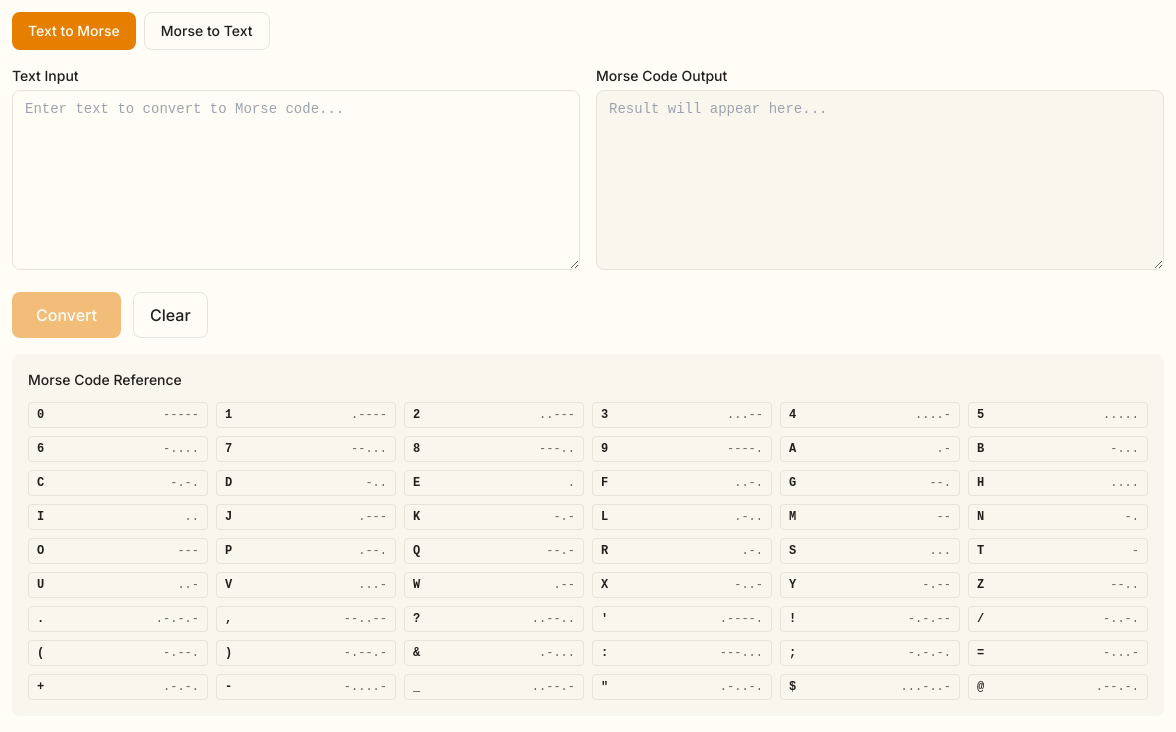
Scenario: MorseCode › converts morse code to text
Click the button "Morse to Text" at (207, 31), box x1=144 y1=12 x2=270 y2=50
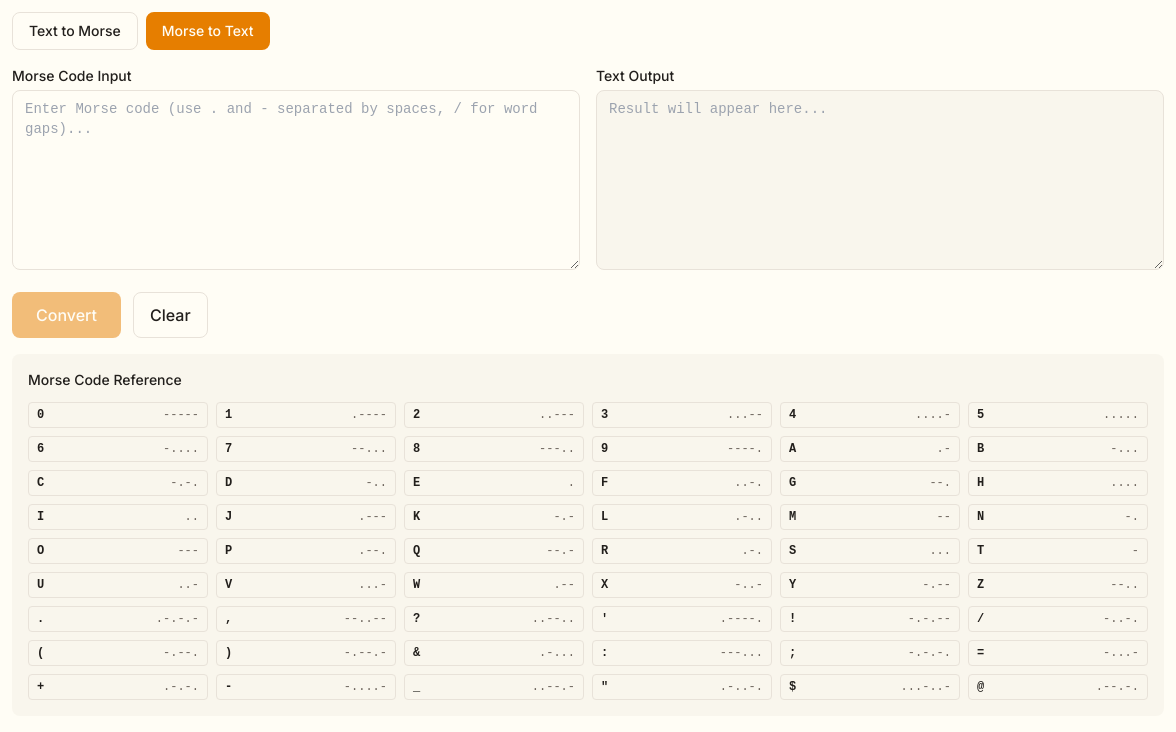
Replace the text in the text box named "Morse code input" with "... --- ..." at (296, 180), box x1=12 y1=90 x2=580 y2=270
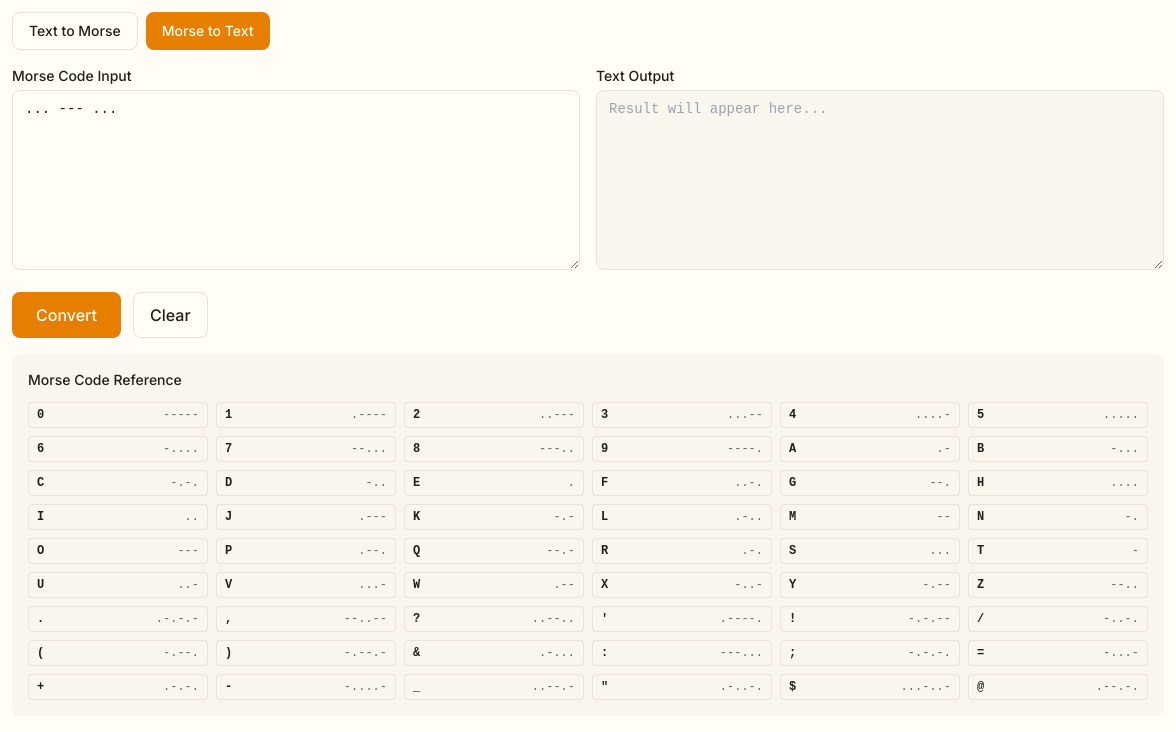
Click the button "Convert" at (66, 315), box x1=12 y1=292 x2=121 y2=338
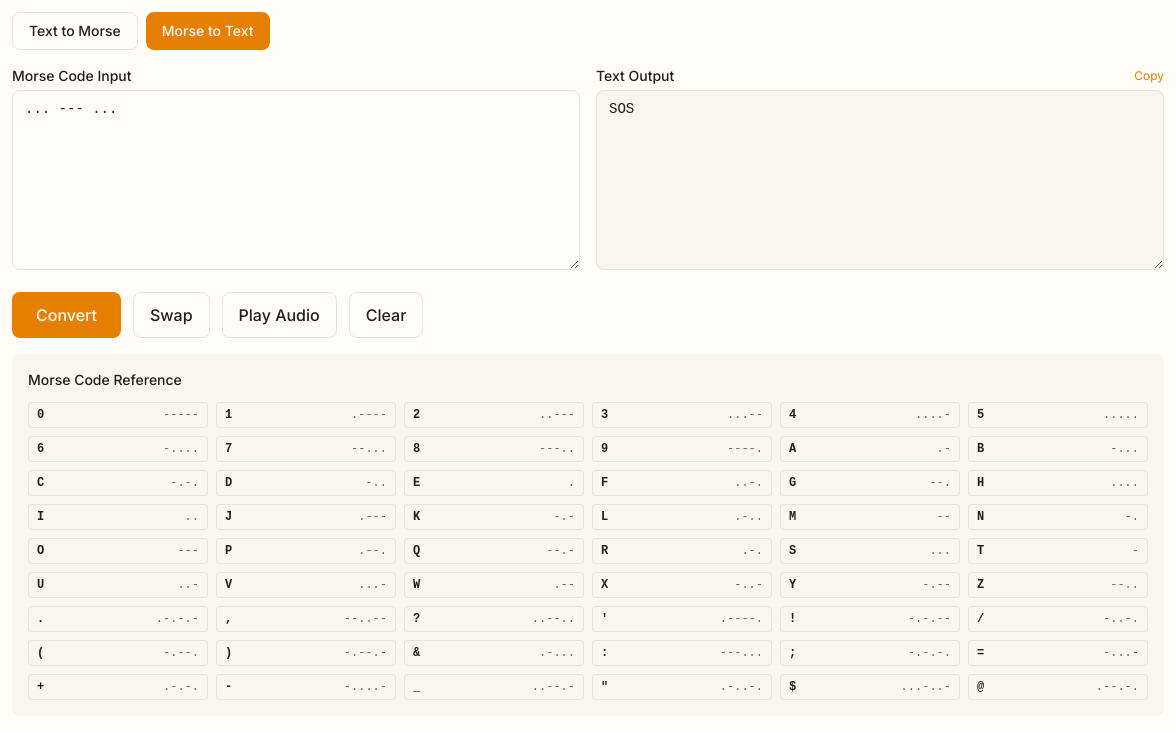
Expected: the text box named "Conversion output" holds "SOS", x1=596 y1=90 x2=1164 y2=270
